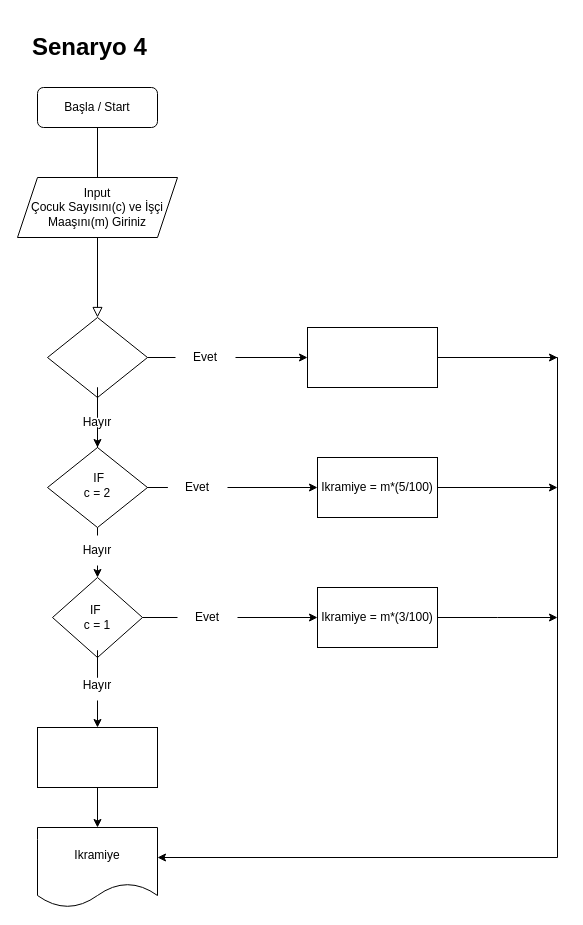
The diagram is 583 pixels wide and 925 high, and some of its shapes have lost their labels. Each missing label, with the centre of its shape:
"IF c >= 3" goes at (97,357).
"Ikramiye = m*(1/100)" goes at (97,757).
"Ikramiye = m*(10/100)" goes at (372,357).
